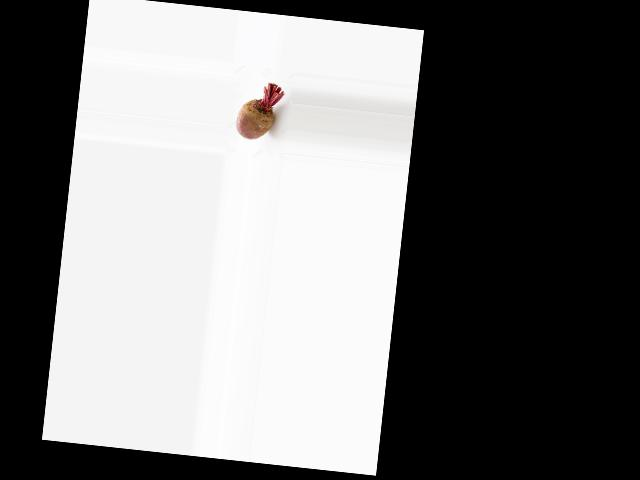beet: (234, 80, 286, 143)
